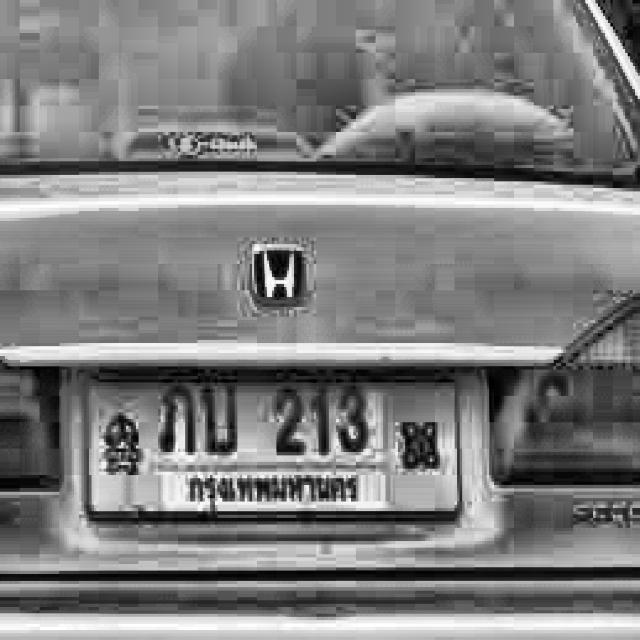license-plate: (66, 363, 470, 546)
